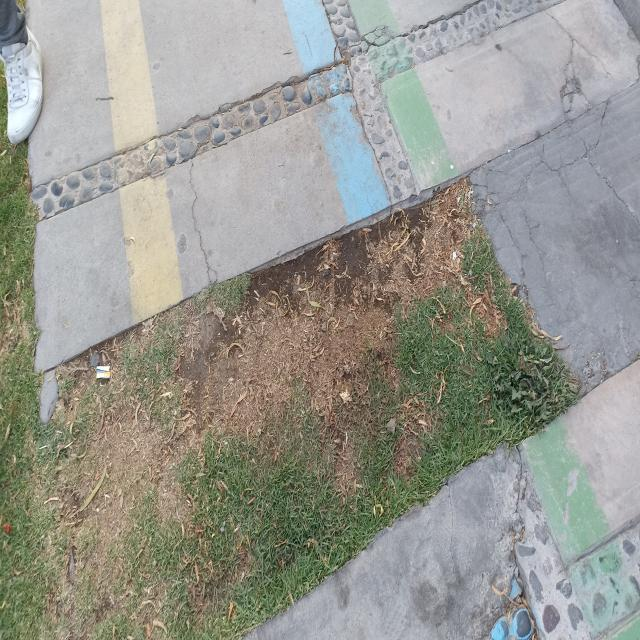hole: (32, 176, 581, 640)
